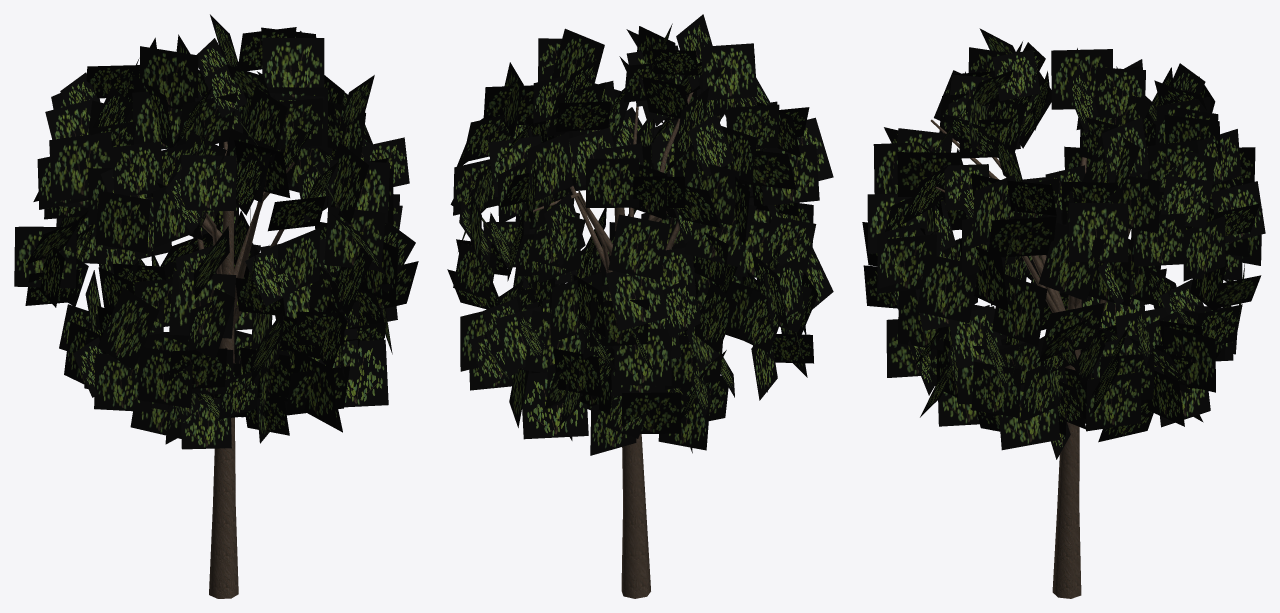
File: tpl_farm_tall_dike_ash.glb
The picture shows the model from 3 angles, left to right: view 1: azimuth 30°, elevation 25°; view 2: azimuth 150°, elevation 25°; view 3: azimuth 270°, elevation 25°; orthographic projection.
Visible parts, largest first — view 1: tpl_farm_tall_dike_ash; view 2: tpl_farm_tall_dike_ash; view 3: tpl_farm_tall_dike_ash.
Boxes of the visible parts, bbox=[...] form: tpl_farm_tall_dike_ash: bbox=[14, 14, 418, 598]; tpl_farm_tall_dike_ash: bbox=[447, 14, 833, 598]; tpl_farm_tall_dike_ash: bbox=[862, 28, 1265, 598].
Bounding box in the file's own units: 12.01 × 17.73 × 11.89.
2 materials, 2 textured.
